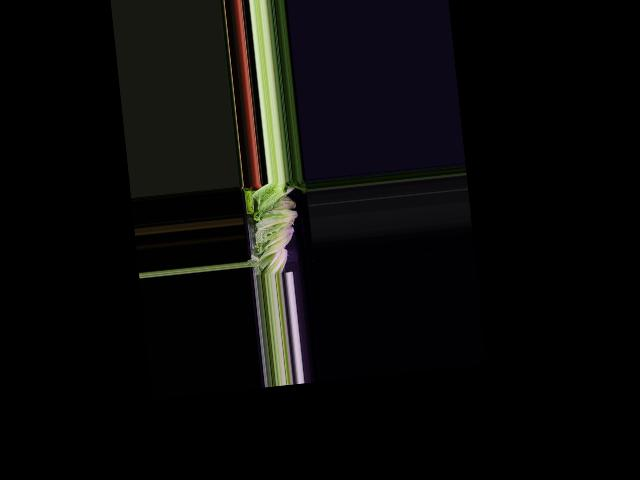lettuce: (259, 245, 290, 275)
